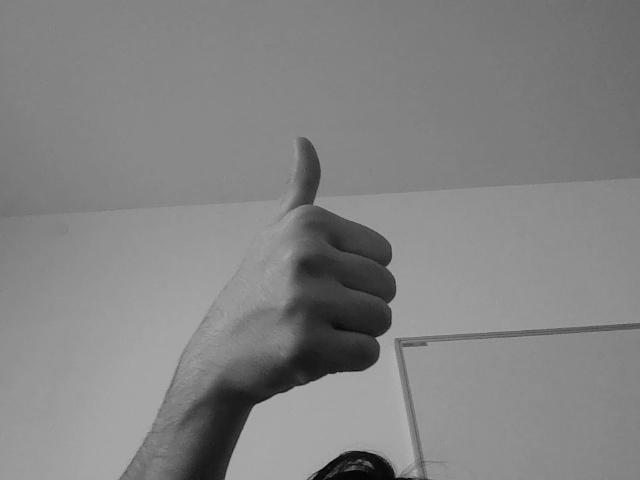good: (154, 122, 413, 435)
